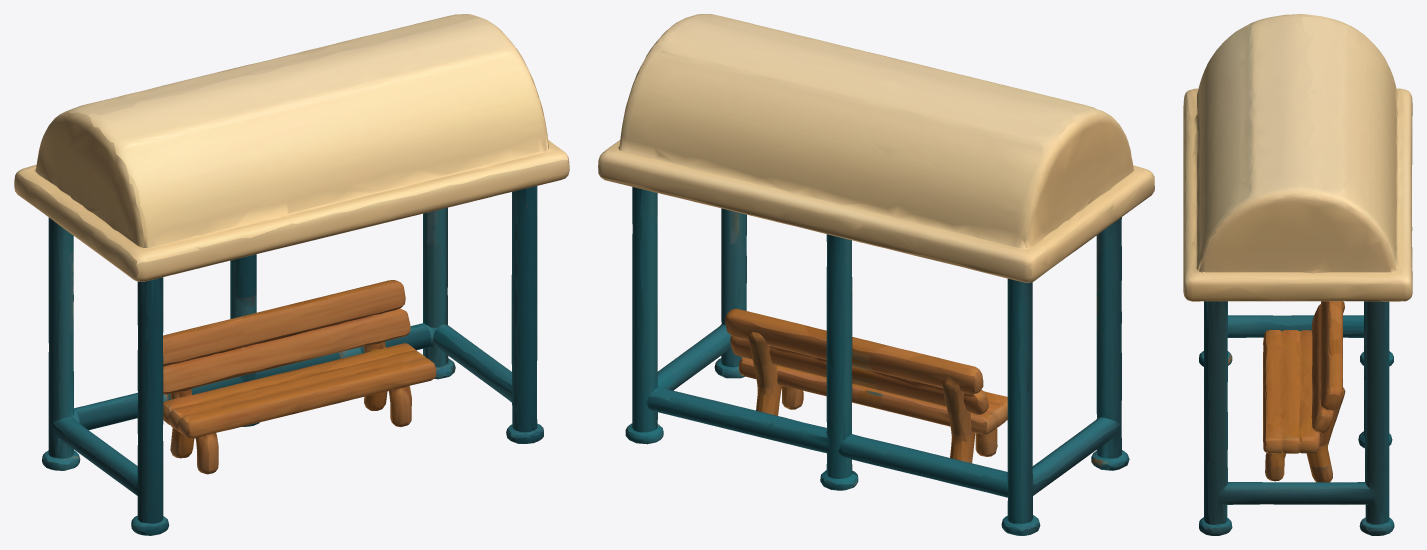
The model's file is BusShelter.glb.
3 views of the same model, side by side, from view 1: azimuth 30°, elevation 25°; view 2: azimuth 150°, elevation 25°; view 3: azimuth 270°, elevation 25° (orthographic). The views are drawn at different scales.
Parts seen in each view (by area): view 1: geometry_0; view 2: geometry_0; view 3: geometry_0.
Part boxes in pixels (x1,y1,x2,y2): geometry_0: (14, 14, 569, 535); geometry_0: (598, 14, 1154, 535); geometry_0: (1183, 14, 1412, 535).
Bounding box in the file's own units: 2.4 × 2 × 1.2.
1 material, 1 textured.
